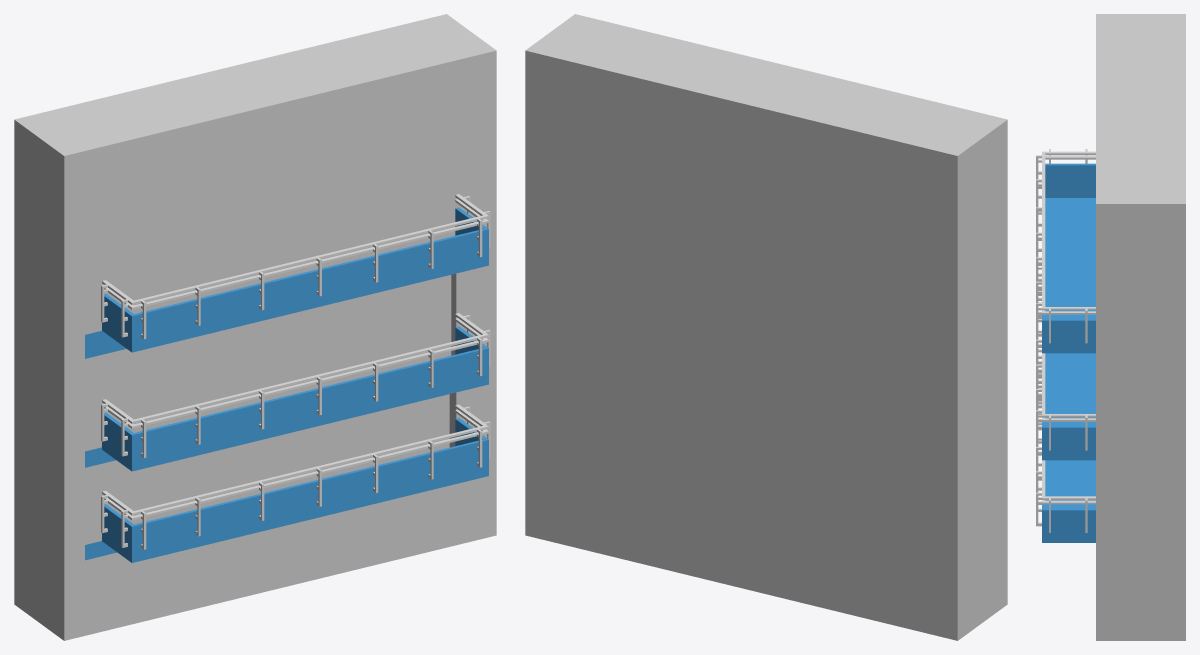
The model's file is predio - Copy.glb.
3 views of the same model, side by side, from view 1: azimuth 30°, elevation 25°; view 2: azimuth 150°, elevation 25°; view 3: azimuth 270°, elevation 25° (orthographic). The views are drawn at different scales.
Parts seen in each view (by area): view 1: Cube.001; view 2: Cube.001; view 3: Cube.001.
Boxes of the visible parts, x1,y1,x2,y2 form: Cube.001: (14, 14, 496, 640); Cube.001: (525, 14, 1007, 640); Cube.001: (1036, 14, 1185, 640).
Size of the model in its own units: 10 by 10.71 by 3.33.
